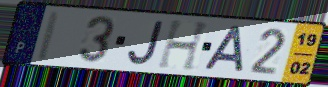2: (247, 27, 288, 77)
3: (76, 15, 116, 64)
A: (201, 24, 246, 74)
H: (155, 19, 213, 73)
I: (33, 9, 64, 63)
J: (126, 19, 166, 67)
